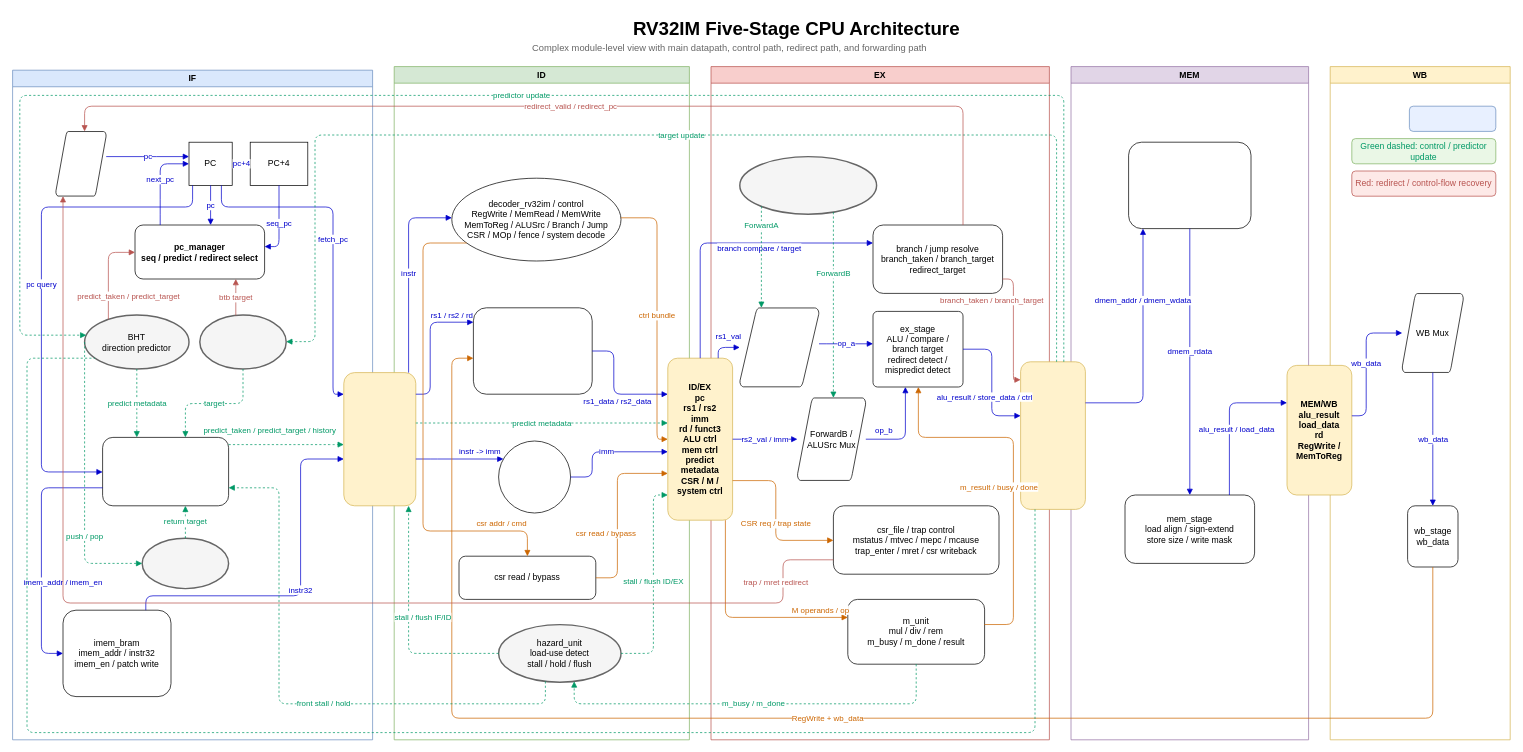
Some shapes in this 1523 by 752 pixel diagram are drawn without their labels. The centre of each missing label's shape, as x and y in pixels:
"Blue: datapath" goes at point 1452,118.
"BTB target predictor" goes at point 243,341.
"dmem_bram dmem_addr / dmem_wdata / dmem_rdata byte-enable / load-store access" goes at point 1189,185.
"EX/MEM alu_result store_data rd mem ctrl branch_taken branch_target" goes at point 1052,435.
"forward_unit ForwardA / ForwardB" goes at point 808,185.
"ForwardA Mux" goes at point 779,347.
"front_end fetch control query predictor manage imem_en" goes at point 165,471.
"IF/ID pc instr instr_len predict_taken predict_target predict_history" goes at point 379,439.
"imm_gen imm" goes at point 534,476.
"PC Mux" goes at point 80,163.
"RAS return stack" goes at point 185,563.
"regfile rs1_data / rs2_data" goes at point 532,350.
